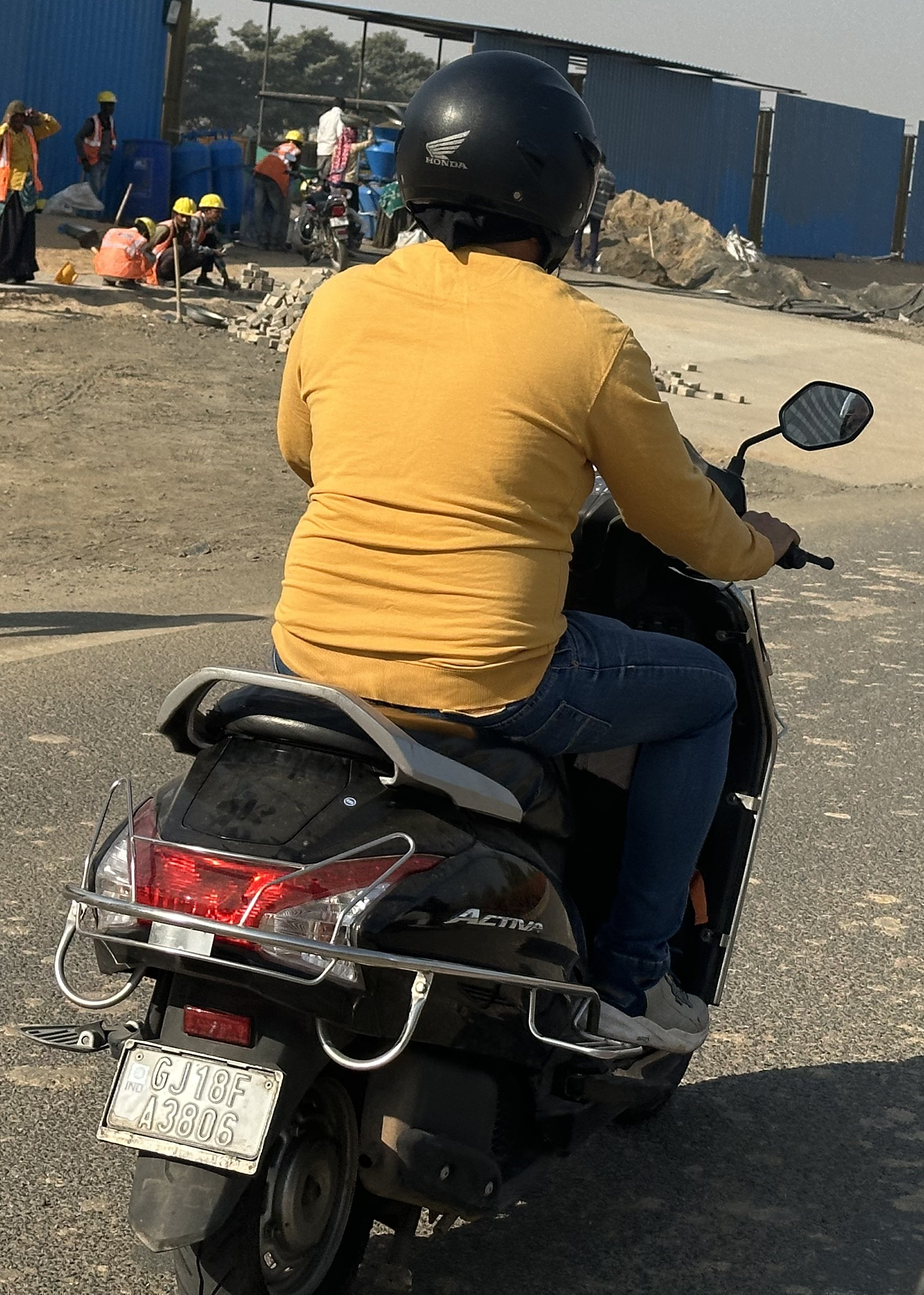BikeWithRider: (8, 31, 896, 1289)
Helmet: (362, 31, 652, 286)
